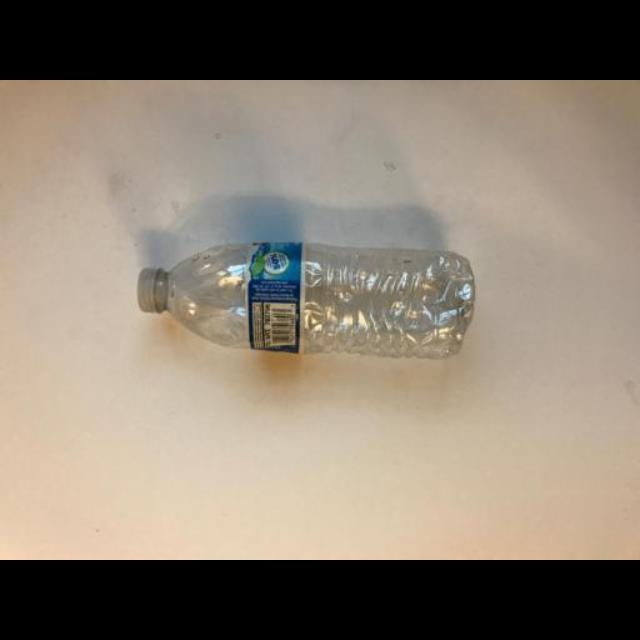garrafa plástica: (167, 240, 478, 362)
tampa plástica: (138, 264, 164, 314)
